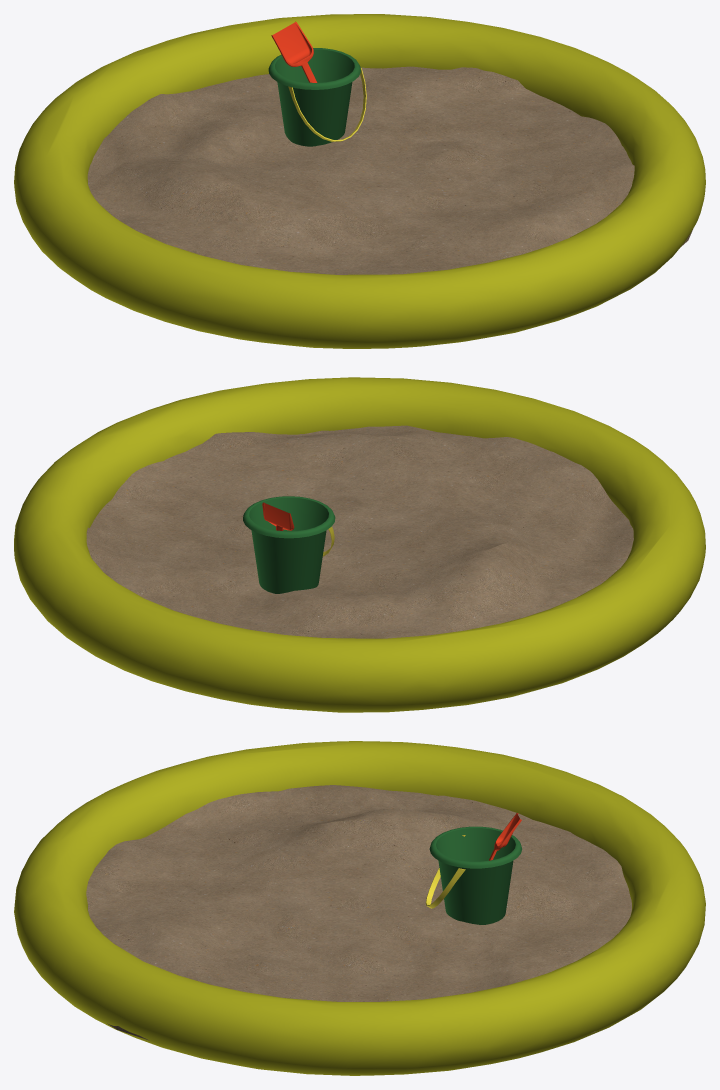
The model's file is sandArea2.fbx.
3 views of the same model, one above another, from view 1: azimuth 30°, elevation 25°; view 2: azimuth 150°, elevation 25°; view 3: azimuth 270°, elevation 25° (orthographic).
Parts seen in each view (by area): view 1: sand, Spade; view 2: sand, Spade; view 3: sand, Spade.
Part boxes in pixels (x1,y1,x2,y2): sand: (14, 14, 705, 348); Spade: (268, 21, 366, 146); sand: (14, 377, 705, 712); Spade: (243, 496, 335, 593); sand: (14, 741, 705, 1075); Spade: (425, 813, 522, 924).
Bounding box in the file's own units: 943 × 197 × 944.
5 materials, 1 textured.
